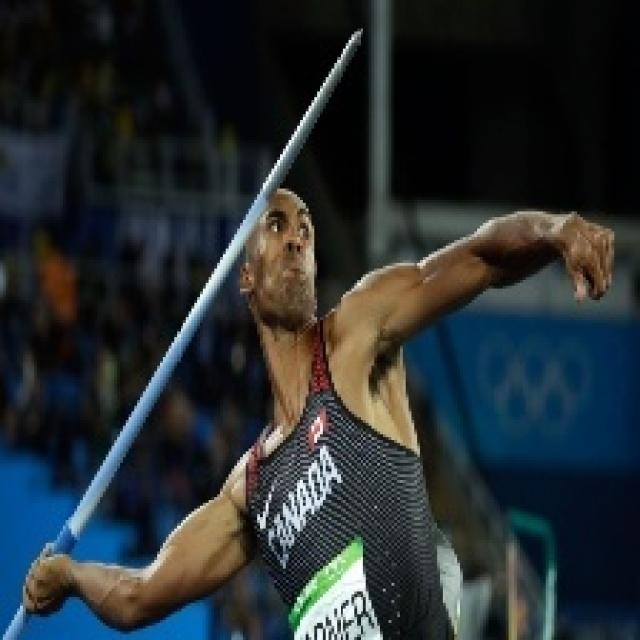javelin: (0, 20, 386, 640)
